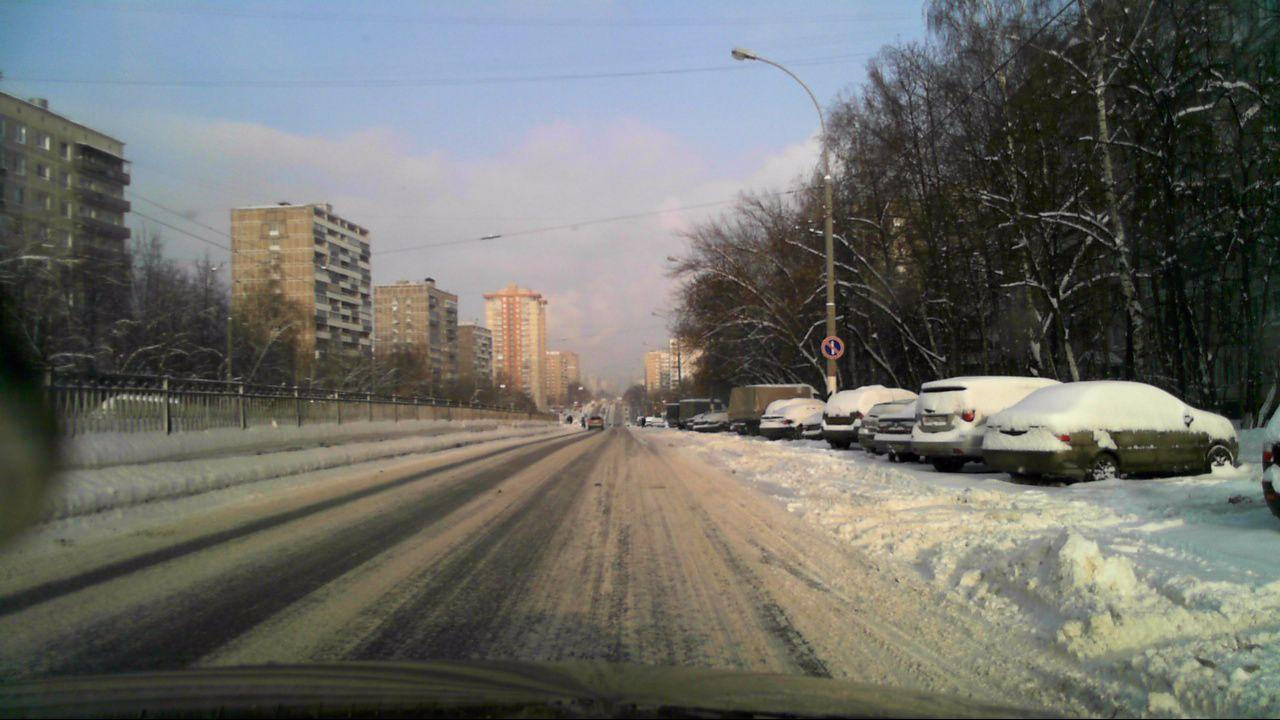3_29: (820, 335, 844, 360)
